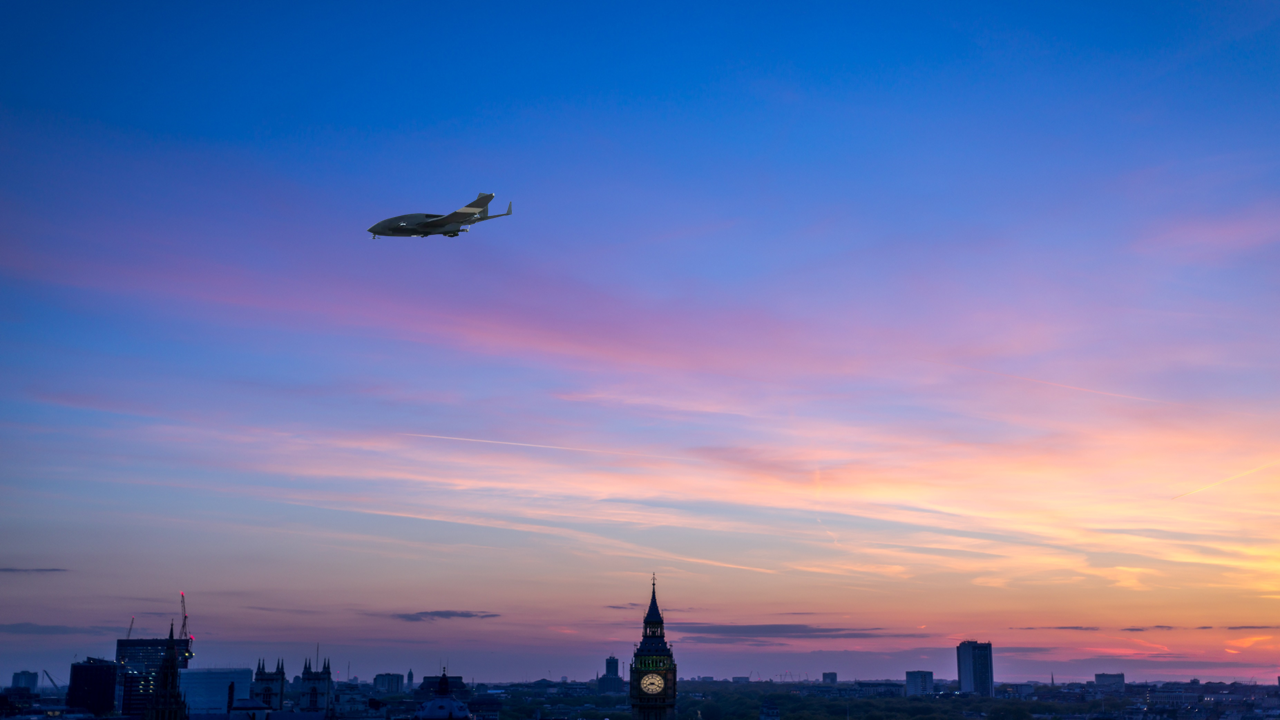military drone: (367, 192, 512, 239)
